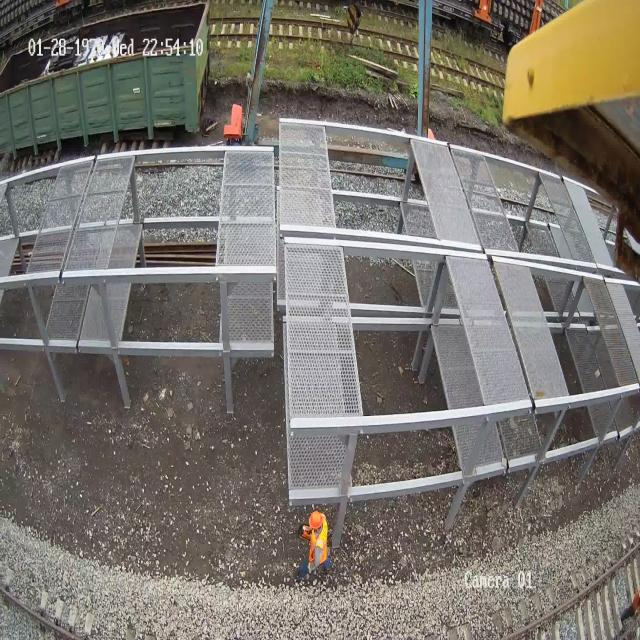Helmet: (309, 510, 322, 529)
Person: (301, 509, 329, 575), (626, 592, 640, 628)
